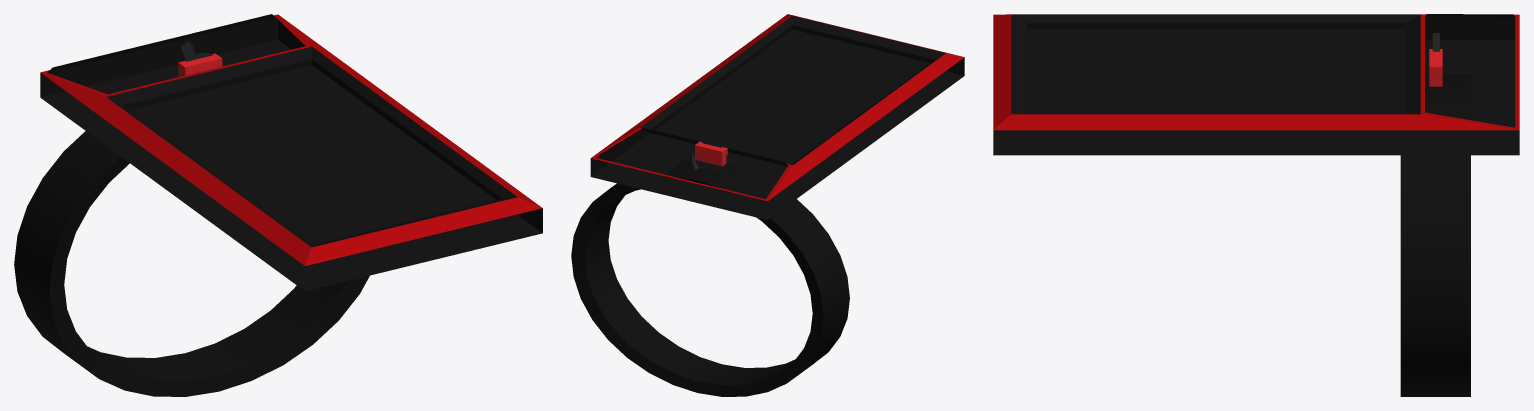
The model's file is PDA.fbx.
3 renders of one model, left to right at view 1: azimuth 30°, elevation 25°; view 2: azimuth 150°, elevation 25°; view 3: azimuth 270°, elevation 25°, orthographic. The views are drawn at different scales.
Parts seen in each view (by area): view 1: Cylinder; view 2: Cylinder; view 3: Cylinder.
Boxes of the visible parts, x1,y1,x2,y2 form: Cylinder: (14,14,542,396); Cylinder: (571,14,964,396); Cylinder: (993,14,1519,396).
Size of the model in its own units: 148 by 141 by 200.
